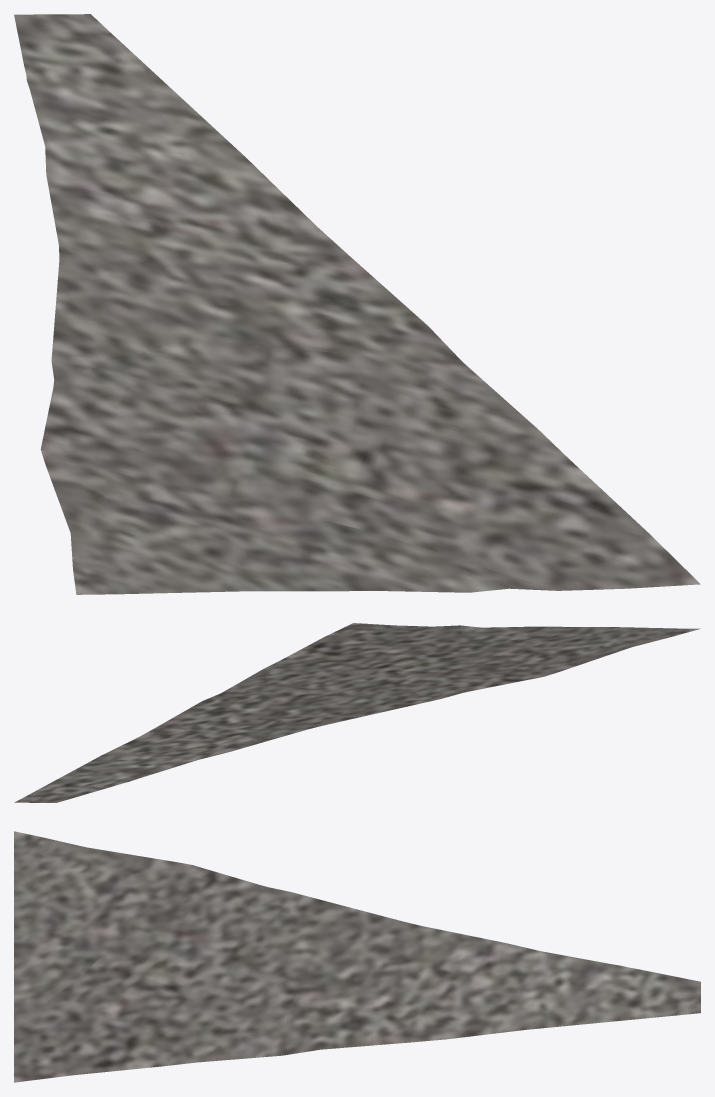
3 views of the same model, one above another, from view 1: azimuth 30°, elevation 25°; view 2: azimuth 150°, elevation 25°; view 3: azimuth 270°, elevation 25° (orthographic). The views are drawn at different scales.
Size of the model in its own units: 0.4949 by 0.1075 by 0.8374.
1 material, 1 textured.
